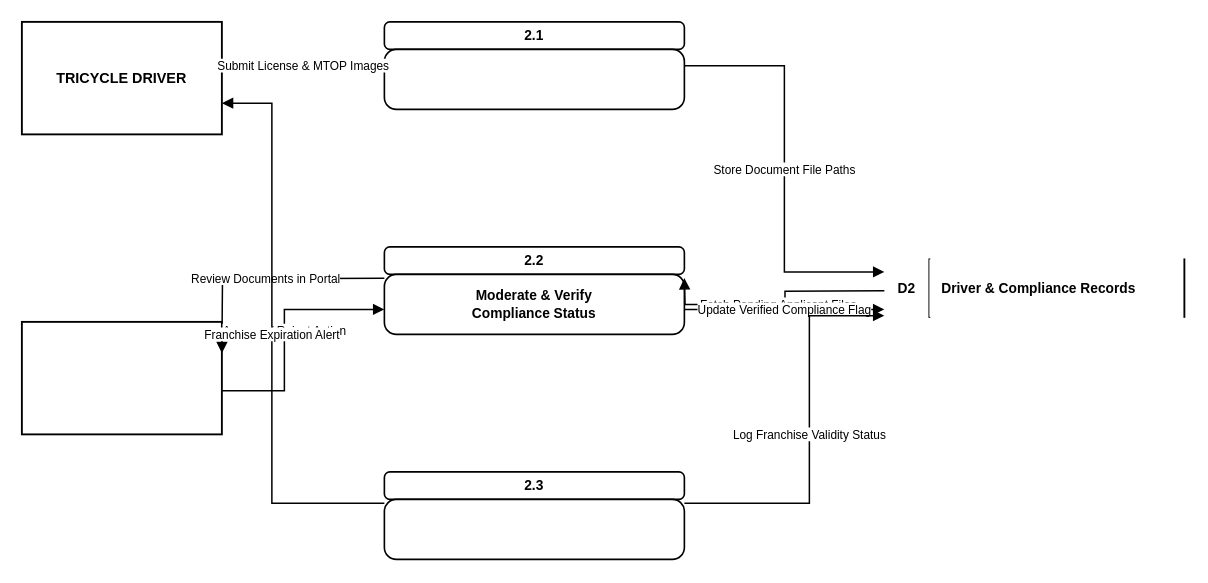
The diagram is 1208 pixels wide and 583 high, and some of its shapes have lost their labels. The box of each missing label's shape, as (x1, y1, x2, y2) in pixels:
Audit Municipal Franchise & Expiry Dates: (383, 498, 685, 560)
TODA ADMINISTRATOR (TODA OFFICER): (20, 320, 222, 435)
Upload Driver License & MTOP Scans: (383, 48, 685, 110)
